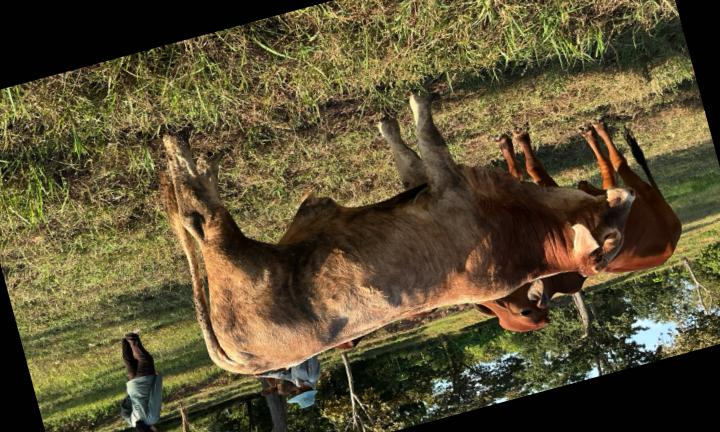Charolais: (160, 92, 635, 373)
